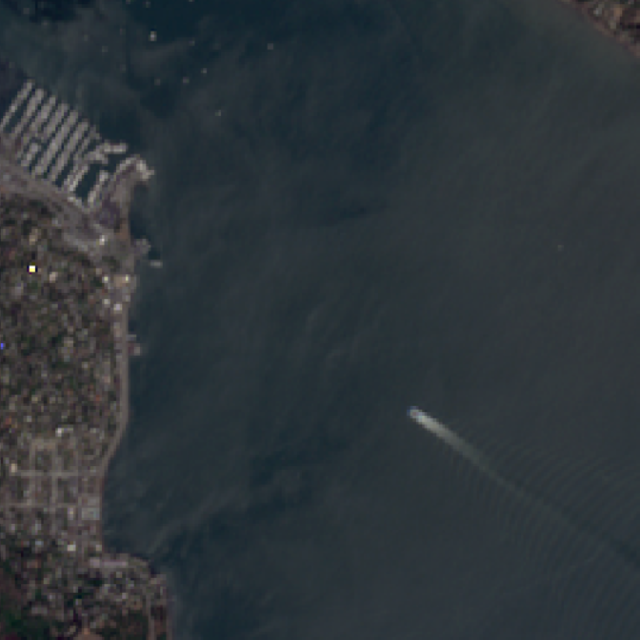wake: (346, 343, 631, 594)
